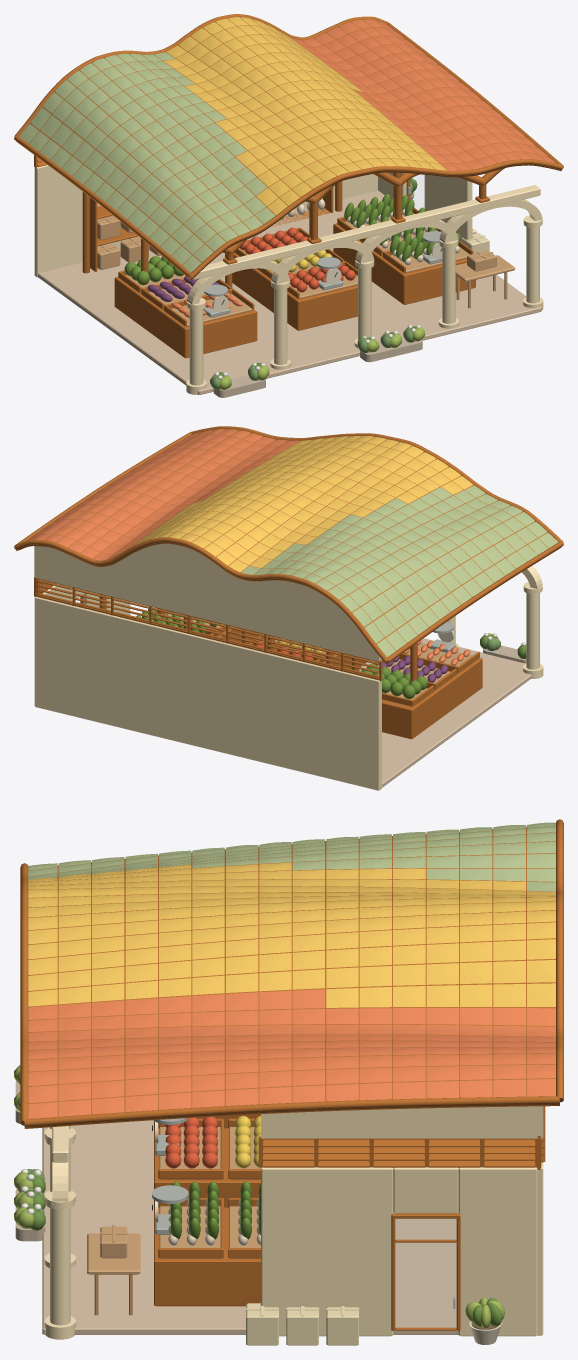
3 views of the same model, one above another, from view 1: azimuth 30°, elevation 25°; view 2: azimuth 150°, elevation 25°; view 3: azimuth 270°, elevation 25° (orthographic). The views are drawn at different scales.
Parts seen in each view (by area): view 1: R 波浪陶片, S 市场室内地面, R 连续实厚曲面木底, I 木摊台, R 波浪檐唇, A 后勤低墙, A 拱廊圆柱, A 拱廊顶带, A 奶油拱券, I 礼盒, I 叶菜叶, I 水果 (+17 smaller); view 2: R 波浪陶片, A 后勤低墙, A 后侧随檐封板, R 连续实厚曲面木底, R 波浪檐唇, S 市场室内地面, A 后侧通风窗实体百叶, I 木摊台, A 后侧通风窗横框, A 拱廊圆柱, I 圆白菜, I 分类托盘 (+7 smaller); view 3: R 波浪陶片, A 右后勤侧墙段, S 市场室内地面, R 连续实厚曲面木底, R 波浪檐唇, A 东侧随檐封板, I 木摊台, A 东侧通风窗实体百叶, I 礼盒, I 水果, I 分类托盘, A 右后勤门过梁 (+13 smaller).
Part boxes in pixels (x1,y1,x2,y2): R 波浪陶片: (19,17,555,272); S 市场室内地面: (38,190,541,394); R 连续实厚曲面木底: (16,18,561,280); I 木摊台: (114,223,475,358); R 波浪檐唇: (14,14,563,278); A 后勤低墙: (34,165,377,277); A 拱廊圆柱: (189,227,539,385); A 拱廊顶带: (193,185,540,279); A 奶油拱券: (187,199,542,306); I 礼盒: (97,215,496,271); I 叶菜叶: (344,193,460,262); I 水果: (239,227,355,292); R 波浪陶片: (26,429,558,657); A 后勤低墙: (34,596,381,790); A 后侧随檐封板: (34,543,381,661); R 连续实厚曲面木底: (16,430,561,664); R 波浪檐唇: (14,426,563,663); S 市场室内地面: (359,638,531,787); A 后侧通风窗实体百叶: (35,580,379,677); I 木摊台: (217,626,482,739); A 后侧通风窗横框: (36,578,381,681); A 拱廊圆柱: (447,593,539,669); I 圆白菜: (361,664,427,699); I 分类托盘: (168,613,472,706); R 波浪陶片: (28,822,555,1118); A 右后勤侧墙段: (261,1167,537,1336); S 市场室内地面: (42,1120,458,1334); R 连续实厚曲面木底: (24,826,559,1128); R 波浪檐唇: (20,819,563,1126); A 东侧随檐封板: (261,1106,537,1138); I 木摊台: (154,1114,260,1306); A 东侧通风窗实体百叶: (263,1139,535,1167); I 礼盒: (100,1226,358,1345); I 水果: (165,1115,260,1168); I 分类托盘: (159,1127,260,1258); A 右后勤门过梁: (393,1167,458,1213).
Size of the model in its own units: 22.41 by 11.85 by 18.5.
